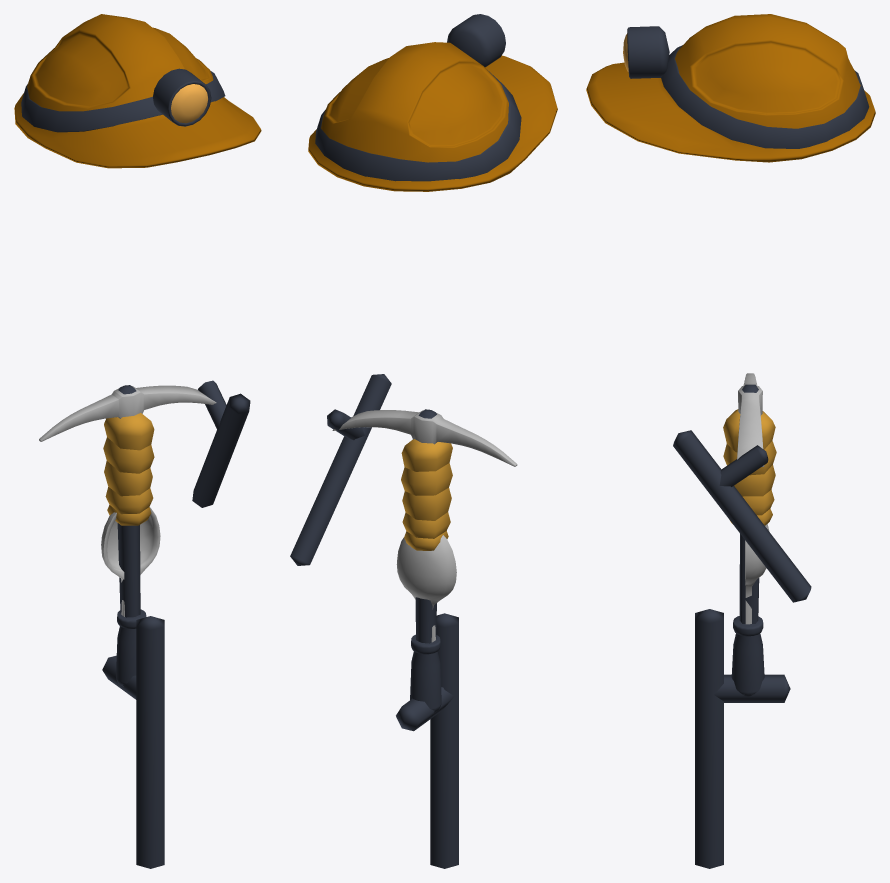
File: Jail_stuff.fbx
The picture shows the model from 3 angles, left to right: view 1: azimuth 30°, elevation 25°; view 2: azimuth 150°, elevation 25°; view 3: azimuth 270°, elevation 25°; orthographic projection. The views are drawn at different scales.
Parts seen in each view (by area): view 1: Light_hat, Dubinka2, Torch, Dubinka, Pickaxe, Spoon, Otvertka; view 2: Light_hat, Dubinka2, Torch, Dubinka, Pickaxe, Spoon, Otvertka; view 3: Light_hat, Dubinka2, Dubinka, Torch, Otvertka, Pickaxe, Spoon.
Boxes of the visible parts, x1=… form: Light_hat: x1=14, y1=14, x2=261, y2=168; Dubinka2: x1=102, y1=616, x2=164, y2=868; Torch: x1=103, y1=413, x2=154, y2=617; Dubinka: x1=192, y1=380, x2=250, y2=507; Pickaxe: x1=39, y1=385, x2=216, y2=441; Spoon: x1=101, y1=507, x2=160, y2=616; Otvertka: x1=116, y1=609, x2=146, y2=686; Light_hat: x1=308, y1=14, x2=557, y2=191; Dubinka2: x1=396, y1=613, x2=458, y2=868; Torch: x1=401, y1=439, x2=452, y2=643; Dubinka: x1=290, y1=374, x2=391, y2=565; Pickaxe: x1=332, y1=409, x2=517, y2=466; Spoon: x1=396, y1=535, x2=456, y2=642; Otvertka: x1=410, y1=634, x2=441, y2=712; Light_hat: x1=586, y1=14, x2=875, y2=162; Dubinka2: x1=695, y1=609, x2=790, y2=868; Dubinka: x1=673, y1=430, x2=811, y2=602; Torch: x1=723, y1=409, x2=776, y2=623; Otvertka: x1=731, y1=616, x2=764, y2=696; Pickaxe: x1=737, y1=373, x2=764, y2=466; Spoon: x1=745, y1=524, x2=769, y2=624.
Size of the model in its own units: 4.67 by 18.3 by 5.64.
